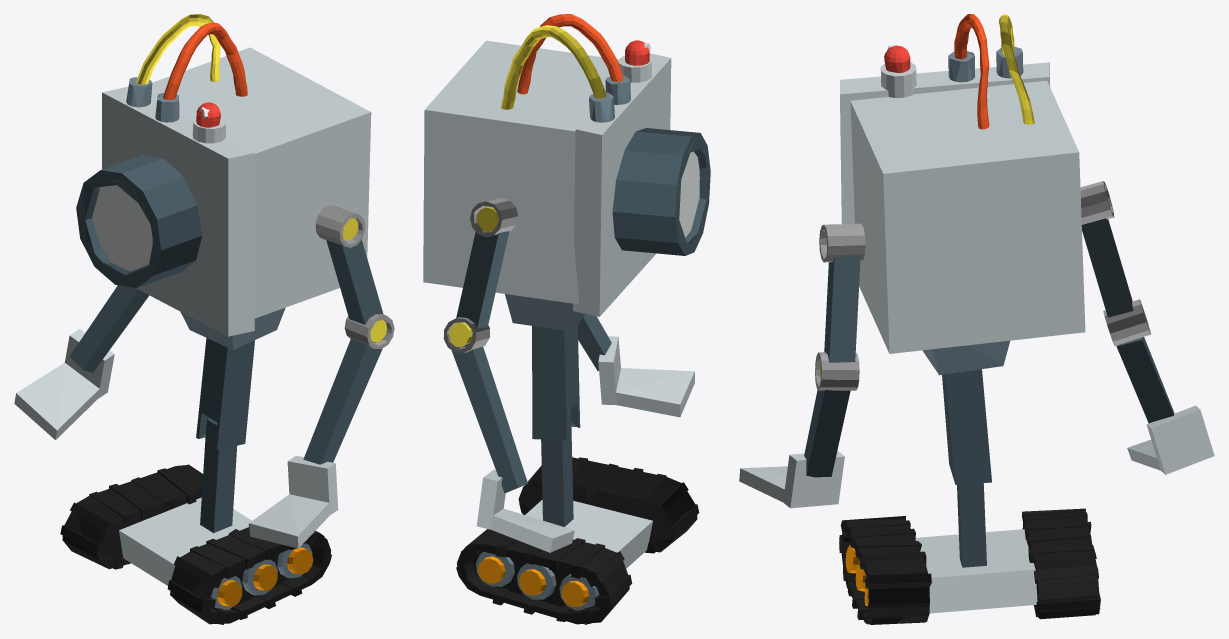
File: robot-camara.fbx
3 views of the same model, side by side, from view 1: azimuth 30°, elevation 25°; view 2: azimuth 150°, elevation 25°; view 3: azimuth 270°, elevation 25° (orthographic). The views are drawn at different scales.
Parts seen in each view (by area): view 1: group1983749940, group2141297075, group1131850294, group246472840, group382064065, group1041594552, group2096540494, group80228427, group124309493, group175260438, group350132644; view 2: group1983749940, group1131850294, group350132644, group2141297075, group80228427, group1041594552, group382064065, group2096540494, group175260438, group124309493; view 3: group1983749940, group2141297075, group350132644, group382064065, group1131850294, group246472840, group80228427, group2096540494, group1041594552, group124309493, group175260438.
Boxes of the visible parts, bbox=[...] form: group1983749940: bbox=[76, 14, 371, 349]; group2141297075: bbox=[167, 524, 331, 624]; group1131850294: bbox=[60, 464, 203, 569]; group246472840: bbox=[315, 205, 394, 348]; group382064065: bbox=[119, 497, 251, 585]; group1041594552: bbox=[249, 456, 338, 548]; group2096540494: bbox=[14, 329, 114, 439]; group80228427: bbox=[196, 338, 254, 449]; group124309493: bbox=[303, 338, 383, 464]; group175260438: bbox=[200, 418, 237, 533]; group350132644: bbox=[69, 285, 149, 372]; group1983749940: bbox=[423, 14, 710, 331]; group1131850294: bbox=[456, 529, 632, 624]; group350132644: bbox=[443, 198, 527, 493]; group2141297075: bbox=[518, 457, 699, 553]; group80228427: bbox=[532, 325, 580, 440]; group1041594552: bbox=[598, 336, 694, 417]; group382064065: bbox=[525, 500, 652, 568]; group2096540494: bbox=[476, 469, 574, 552]; group175260438: bbox=[541, 409, 573, 526]; group124309493: bbox=[577, 314, 611, 370]; group1983749940: bbox=[840, 14, 1085, 375]; group2141297075: bbox=[839, 516, 931, 624]; group350132644: bbox=[1080, 181, 1174, 423]; group382064065: bbox=[915, 529, 1037, 613]; group1131850294: bbox=[1022, 508, 1100, 619]; group246472840: bbox=[815, 223, 865, 390]; group80228427: bbox=[942, 369, 991, 484]; group2096540494: bbox=[1127, 405, 1214, 474]; group1041594552: bbox=[739, 450, 844, 508]; group124309493: bbox=[804, 390, 850, 477]; group175260438: bbox=[957, 483, 986, 567].
Bounding box in the file's own units: 2.13 × 4.65 × 3.38.
